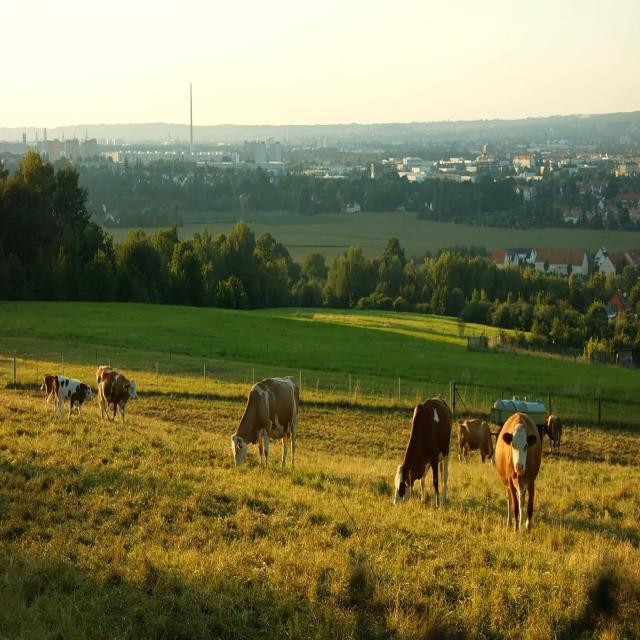cow: (386, 382, 462, 515), (231, 369, 312, 481), (488, 407, 544, 546), (44, 371, 93, 422), (102, 367, 140, 425)
